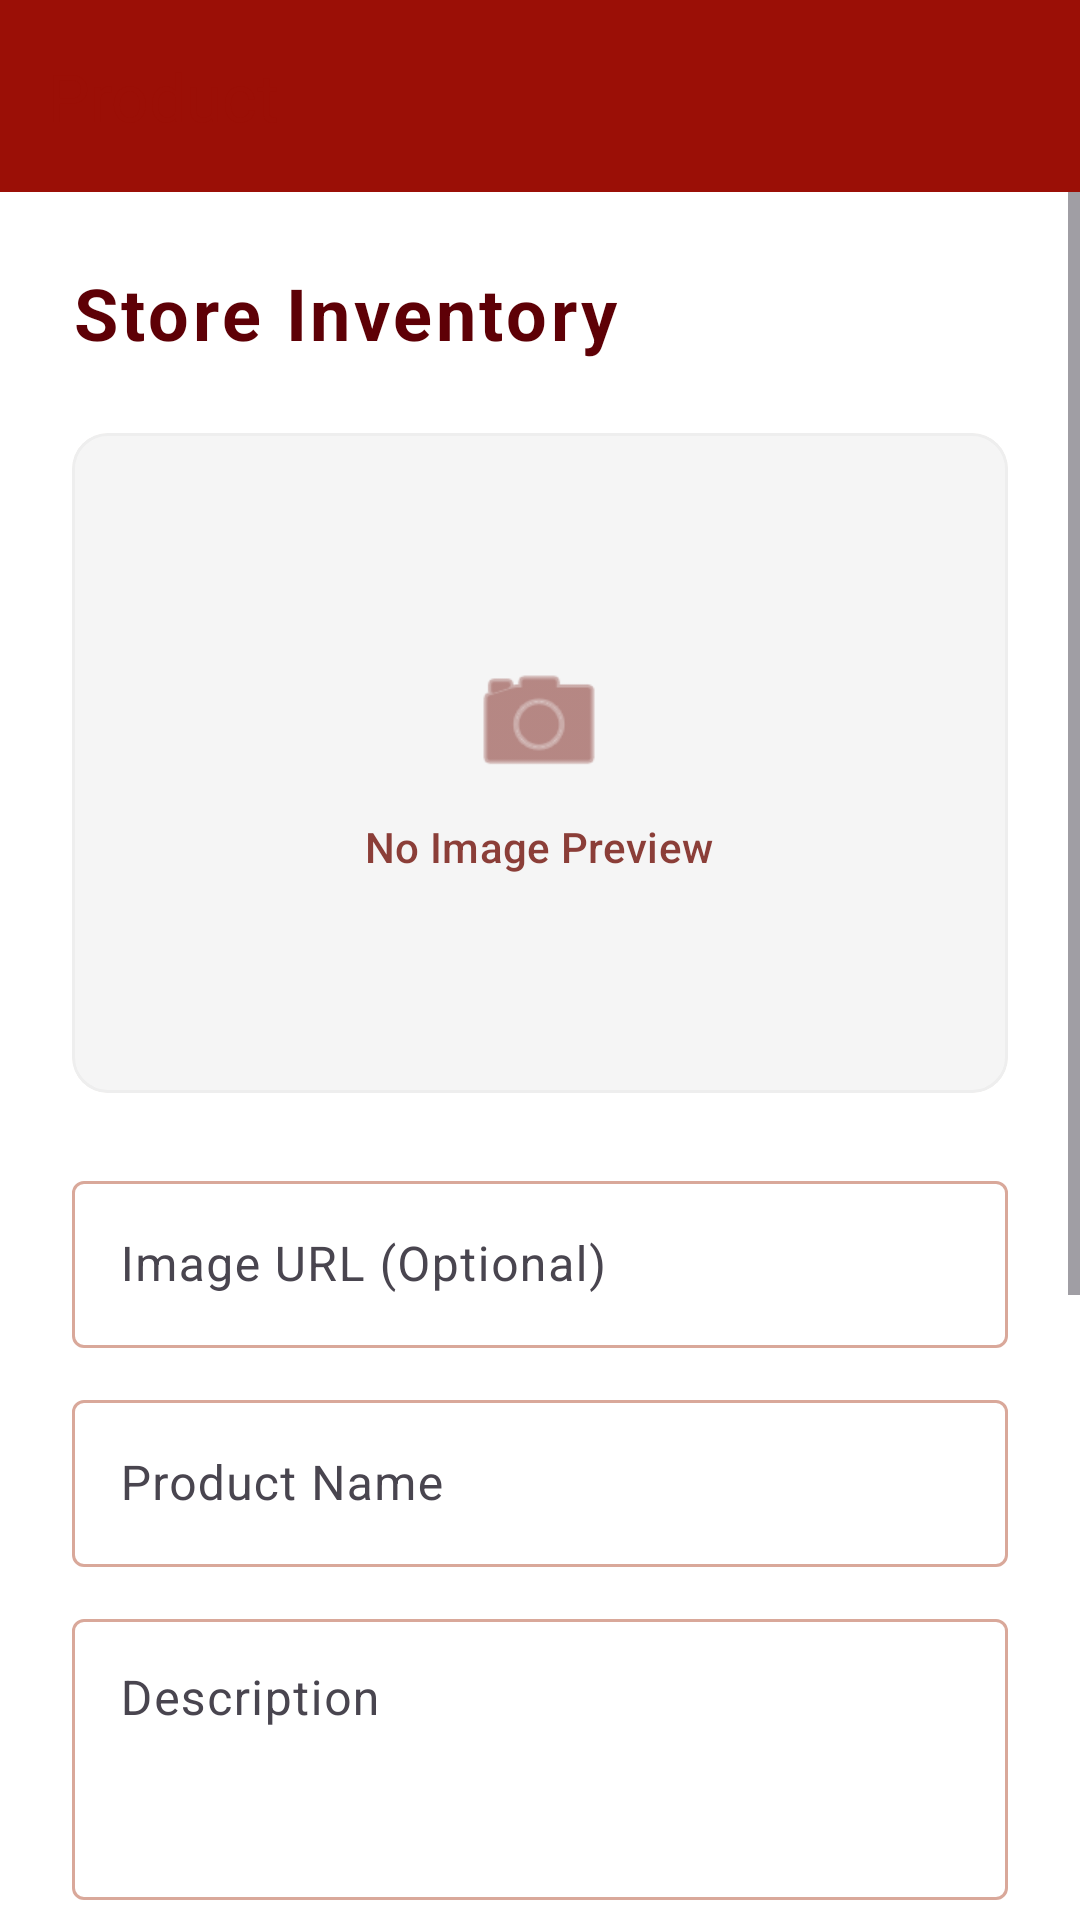

Icon bounding boxes for this 1080*1920 phone screenshot, format (x1, y1, x2, y2):
camera: (483, 675, 595, 764)
